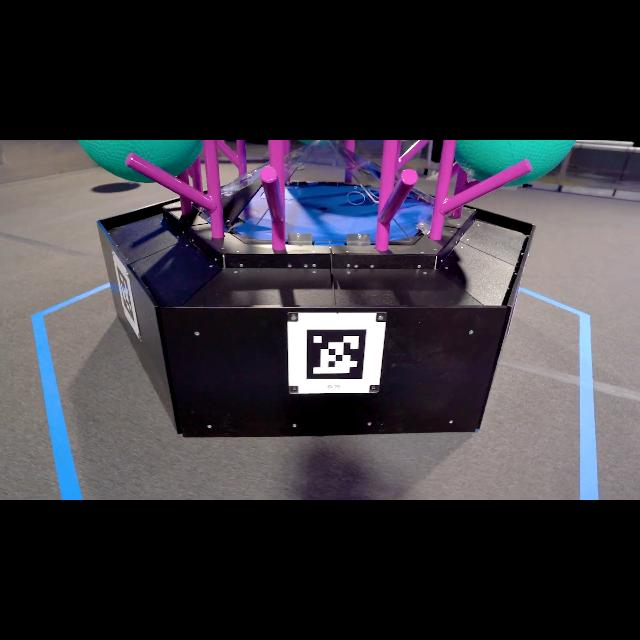ALGAE: (454, 140, 576, 188), (77, 140, 203, 183)
